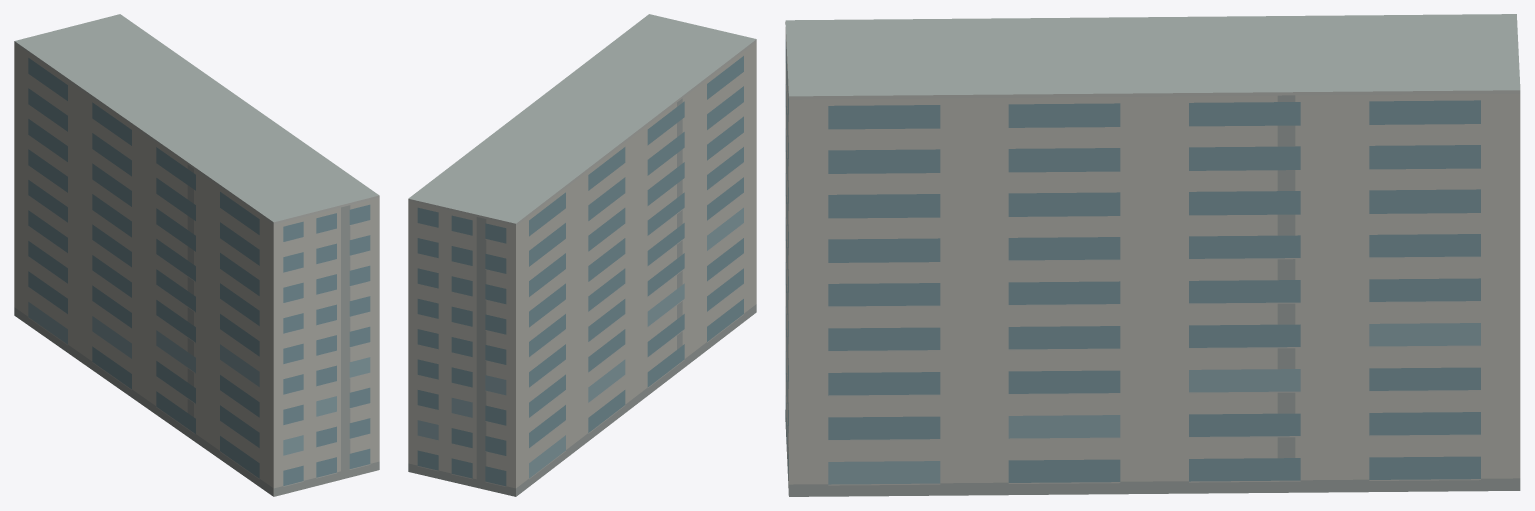
Rendered from residential-aee19c55-9c8c-4493-b7ef-ff9b46f6f664.glb.
The picture shows the model from 3 angles, left to right: view 1: azimuth 30°, elevation 25°; view 2: azimuth 150°, elevation 25°; view 3: azimuth 270°, elevation 25°; orthographic projection. The views are drawn at different scales.
Parts seen in each view (by area): view 1: residential-aee19c55-9c8c-4493-b7ef-ff9b46f6f664.tmp; view 2: residential-aee19c55-9c8c-4493-b7ef-ff9b46f6f664.tmp; view 3: residential-aee19c55-9c8c-4493-b7ef-ff9b46f6f664.tmp.
Part boxes in pixels (x1,y1,x2,y2): residential-aee19c55-9c8c-4493-b7ef-ff9b46f6f664.tmp: [14, 14, 379, 496]; residential-aee19c55-9c8c-4493-b7ef-ff9b46f6f664.tmp: [408, 14, 756, 496]; residential-aee19c55-9c8c-4493-b7ef-ff9b46f6f664.tmp: [785, 14, 1520, 496].
Size of the model in its own units: 13.23 by 30 by 49.89.
